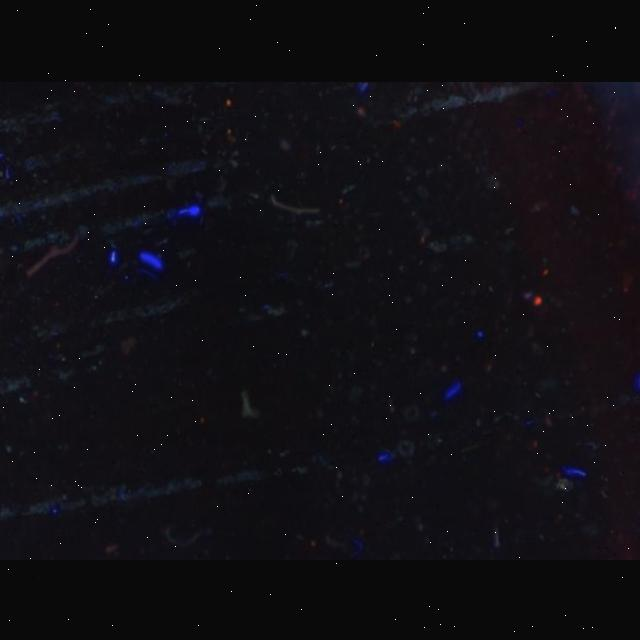Fibre: (234, 388, 262, 419)
